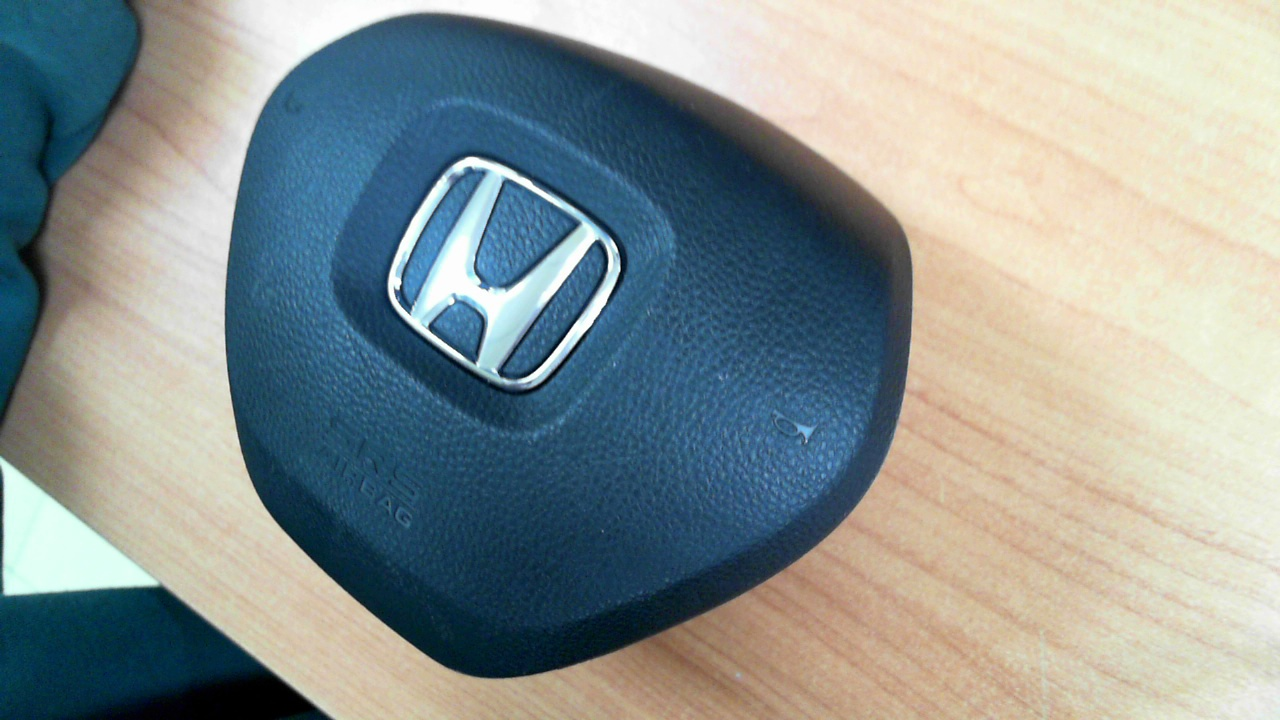Airbag: (224, 10, 915, 680)
Honda: (385, 151, 627, 393)
